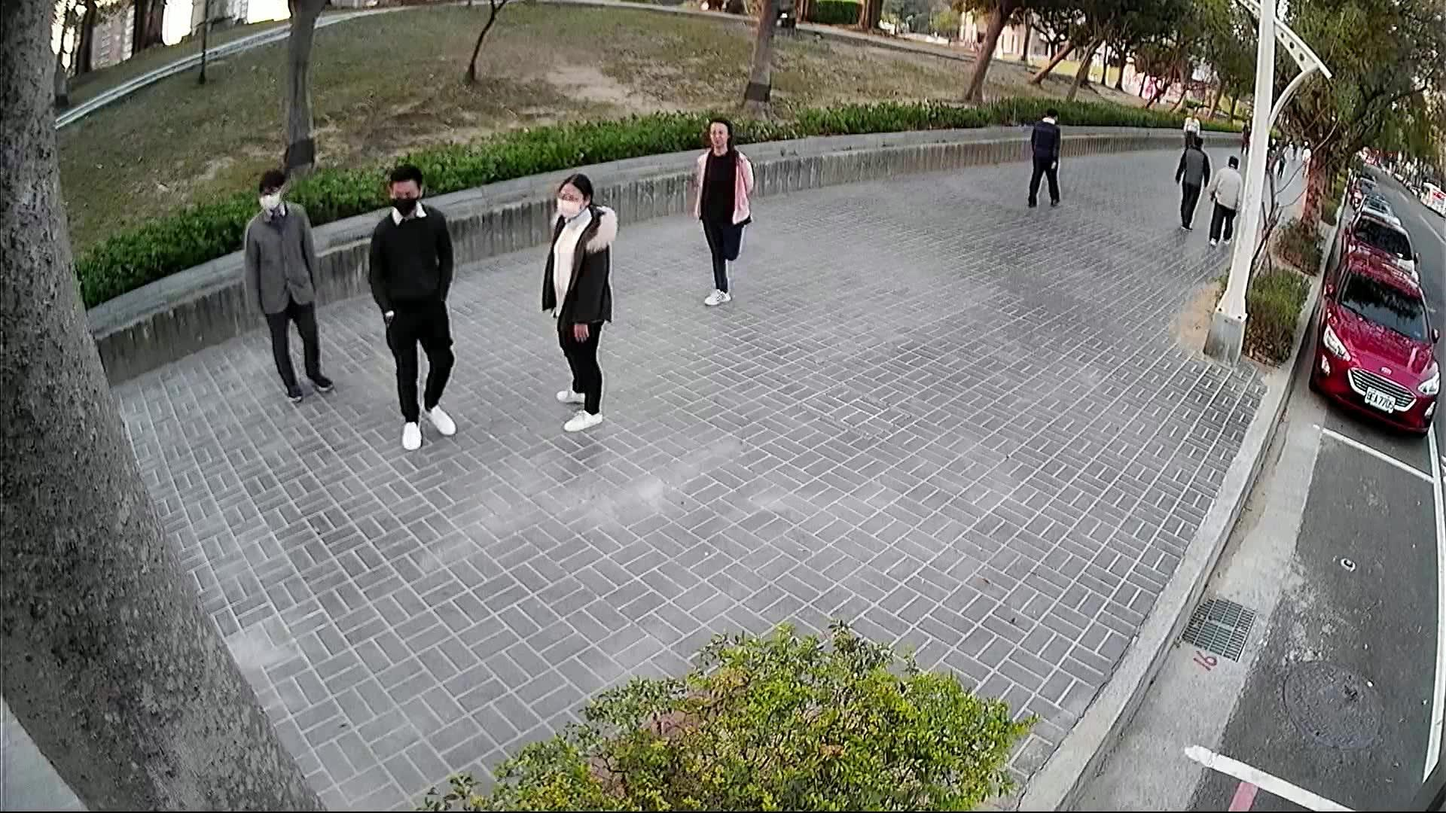person: (357, 157, 461, 455), (236, 166, 337, 406), (539, 169, 621, 435), (687, 108, 756, 312), (1197, 148, 1250, 252), (1020, 100, 1065, 212), (1170, 128, 1215, 234)
